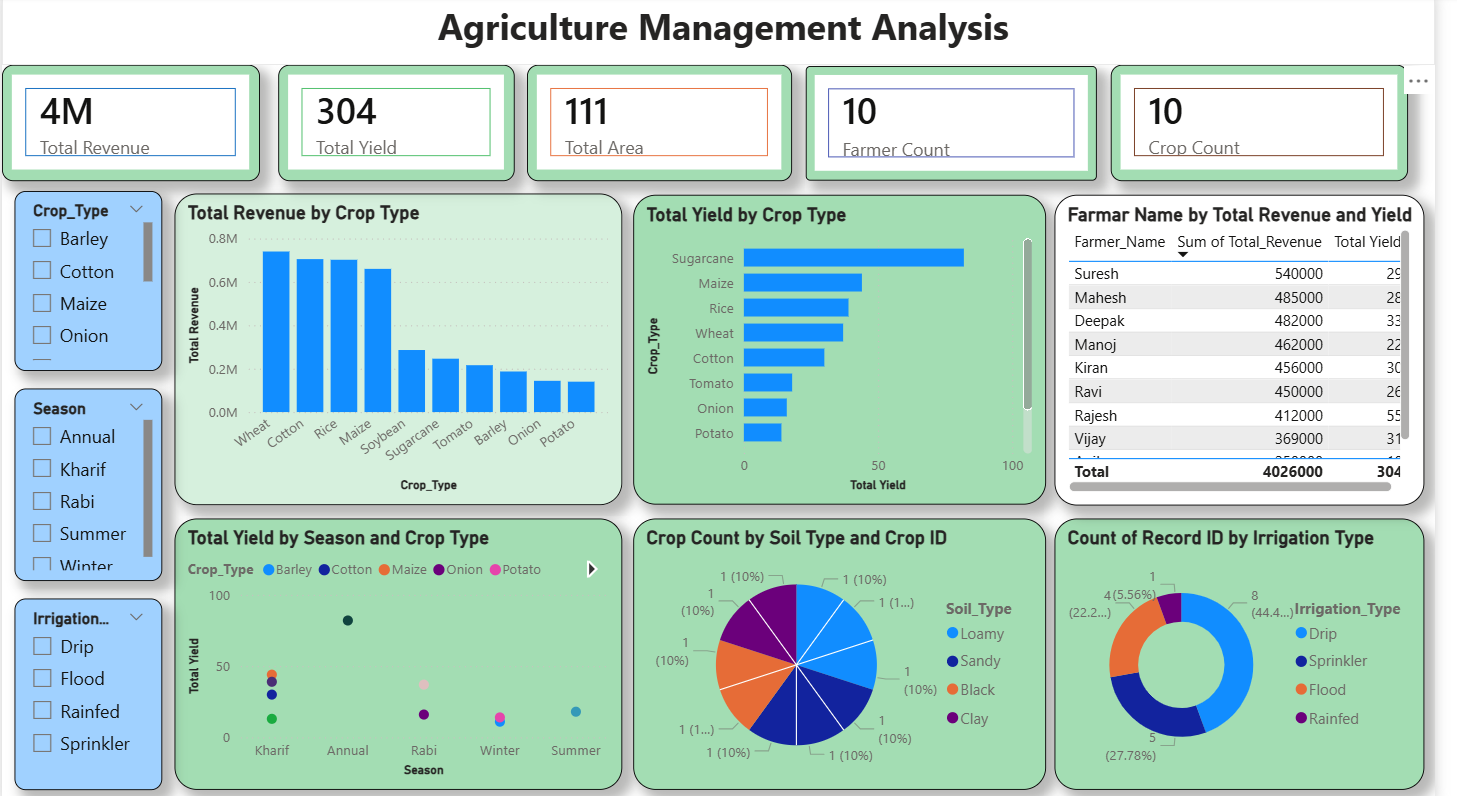

What the dashboard file says about the page in this screenshot:
{"tool":"powerbi","page":{"name":"Page 1 Main Dashboard","canvas":[1280,720],"ordinal":0},"visuals":[{"type":"cardVisual","title":"₹ 4M Total Revenue","fields":{"Data":["Crops.Total Revenue"]},"box":[0,61.2,230,103.8],"z":0},{"type":"cardVisual","fields":{"Data":["Crops.Total Yield"]},"box":[246.8,61.4,211,103.8],"z":1000},{"type":"cardVisual","fields":{"Data":["Crops.Total Area"]},"box":[469,61.4,236.7,103.8],"z":2000},{"type":"cardVisual","fields":{"Data":["Crops.Farmer Count"]},"box":[718,62.5,260.2,102.7],"z":3000},{"type":"cardVisual","fields":{"Data":["Crops.Crop Count"]},"box":[990.5,61.4,265.8,103.8],"z":4000},{"type":"clusteredColumnChart","title":"Total Revenue by Crop Type","fields":{"Category":["Crops.Crop_Type"],"Y":["Crops.Total Revenue"]},"box":[154.1,176.4,399.8,278],"z":5000},{"type":"clusteredBarChart","title":"Total Yield by Crop Type","fields":{"Category":["Crops.Crop_Type"],"Y":["Crops.Total Yield"]},"box":[563.9,177.5,368.5,276.9],"z":6000},{"type":"lineChart","title":"Total Yield by Season and Crop Type","fields":{"Category":["Crops.Season"],"Y":["Crops.Total Yield"],"Series":["Crops.Crop_Type"]},"box":[154.1,466.8,399.8,242.3],"z":7000},{"type":"pieChart","title":"Crop Count by Soil Type and Crop ID","fields":{"Category":["Crops.Soil_Type"],"Series":["Crops.Crop_ID"],"Y":["Crops.Crop Count"]},"box":[563.9,466.8,368.5,242.3],"z":8000},{"type":"donutChart","title":"Count of Record ID by Irrigation Type","fields":{"Category":["Farm_Records.Irrigation_Type"],"Y":["CountNonNull(Farm_Records.Record_ID)"]},"box":[940.2,466.8,330.5,242.3],"z":9000},{"type":"tableEx","title":"Farmar  Name by Total  Revenue and Yield","fields":{"Values":["Farmers.Farmer_Name","Sum(Farm_Records.Total_Revenue)","Crops.Total Yield"]},"box":[940,177.5,330,277.5],"z":10000},{"type":"slicer","fields":{"Values":["Crops.Crop_Type"]},"box":[11.2,174.2,131.8,160.8],"z":11000},{"type":"slicer","fields":{"Values":["Crops.Season"]},"box":[11.2,350.6,131.8,172],"z":12000},{"type":"slicer","fields":{"Values":["Farm_Records.Irrigation_Type"]},"box":[11.2,538.2,131.8,170.8],"z":13000},{"type":"textbox","box":[0,0,1279.7,61.4],"z":14000}]}

Visuals, with their boxes in screenshot pixels (x1, y1, x2, y2), scaled from the page's 1280x720 canvas onto the 1457x796 screenshot:
"₹ 4M Total Revenue" cardVisual: left=0, top=68, right=262, bottom=182
cardVisual - Crops.Total Yield: left=281, top=68, right=521, bottom=183
cardVisual - Crops.Total Area: left=534, top=68, right=803, bottom=183
cardVisual - Crops.Farmer Count: left=817, top=69, right=1113, bottom=183
cardVisual - Crops.Crop Count: left=1127, top=68, right=1430, bottom=183
"Total Revenue by Crop Type" clusteredColumnChart: left=175, top=195, right=630, bottom=502
"Total Yield by Crop Type" clusteredBarChart: left=642, top=196, right=1061, bottom=502
"Total Yield by Season and Crop Type" lineChart: left=175, top=516, right=630, bottom=784
"Crop Count by Soil Type and Crop ID" pieChart: left=642, top=516, right=1061, bottom=784
"Count of Record ID by Irrigation Type" donutChart: left=1070, top=516, right=1446, bottom=784
"Farmar  Name by Total  Revenue and Yield" tableEx: left=1070, top=196, right=1446, bottom=503
slicer - Crops.Crop_Type: left=13, top=193, right=163, bottom=370
slicer - Crops.Season: left=13, top=388, right=163, bottom=578
slicer - Farm_Records.Irrigation_Type: left=13, top=595, right=163, bottom=784
textbox: left=0, top=0, right=1456, bottom=68
